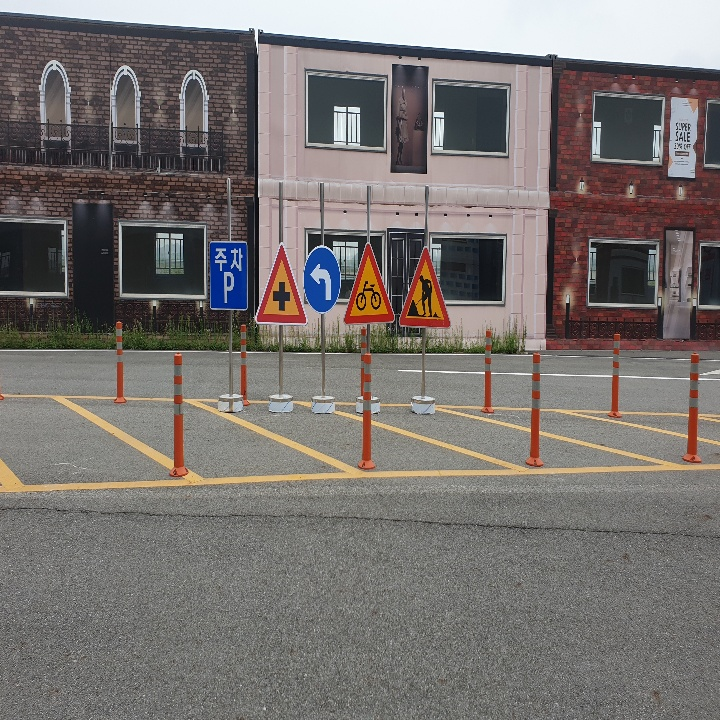bicycle: (343, 242, 392, 322)
const: (407, 272, 443, 319)
inter: (270, 279, 295, 312)
left: (307, 261, 337, 305)
parking: (215, 270, 240, 309)
